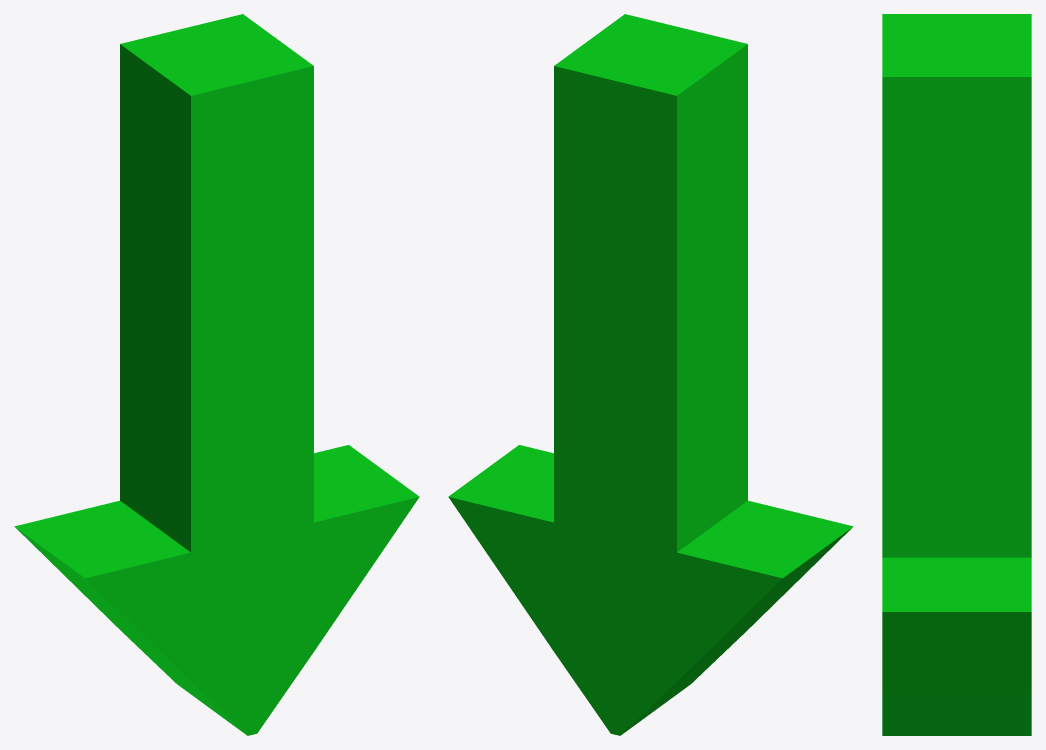
File: arrow.fbx
3 renders of one model, left to right at view 1: azimuth 30°, elevation 25°; view 2: azimuth 150°, elevation 25°; view 3: azimuth 270°, elevation 25°, orthographic. The views are drawn at different scales.
Parts seen in each view (by area): view 1: Cube; view 2: Cube; view 3: Cube.
Part boxes in pixels (bbox=[...]): Cube: bbox=[14, 14, 419, 735]; Cube: bbox=[448, 14, 853, 735]; Cube: bbox=[882, 14, 1031, 735].
Size of the model in its own units: 125 by 233 by 45.84.
